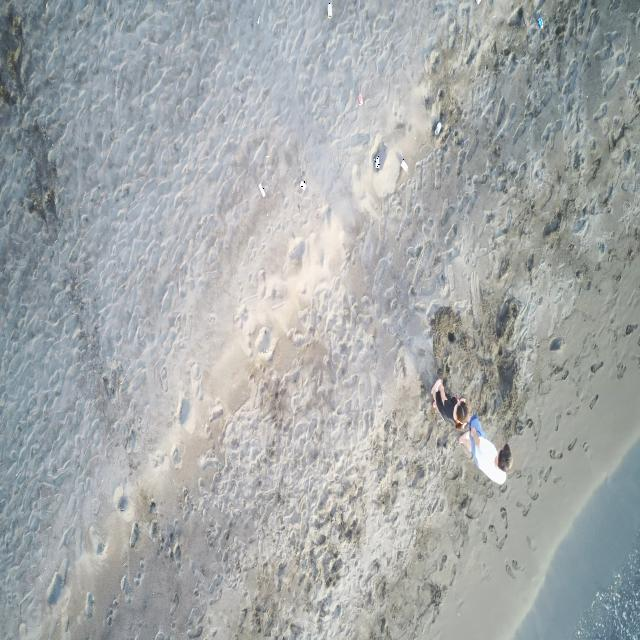tin-and-aluminum-cans: (258, 182, 266, 199), (434, 122, 442, 136), (400, 159, 408, 173), (327, 3, 333, 20), (374, 156, 380, 171), (536, 14, 542, 28), (358, 92, 363, 107), (300, 180, 306, 192)
